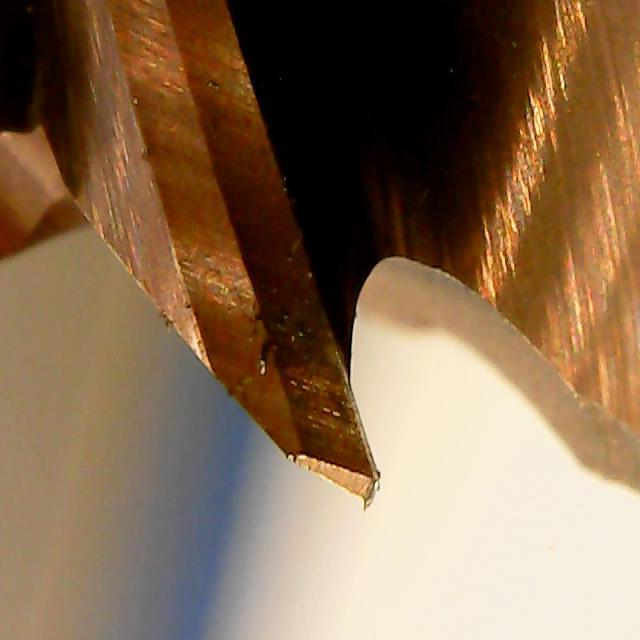Tool-wear-class-1: (207, 258, 397, 518)
